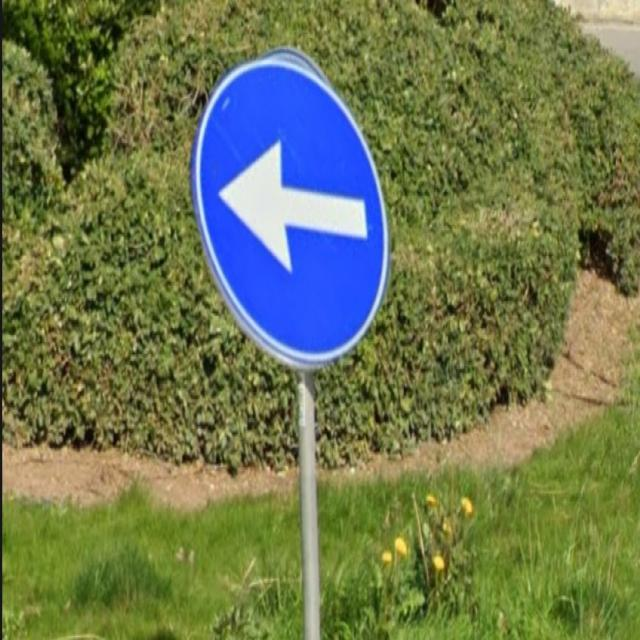Turn Left: (197, 60, 388, 367)
